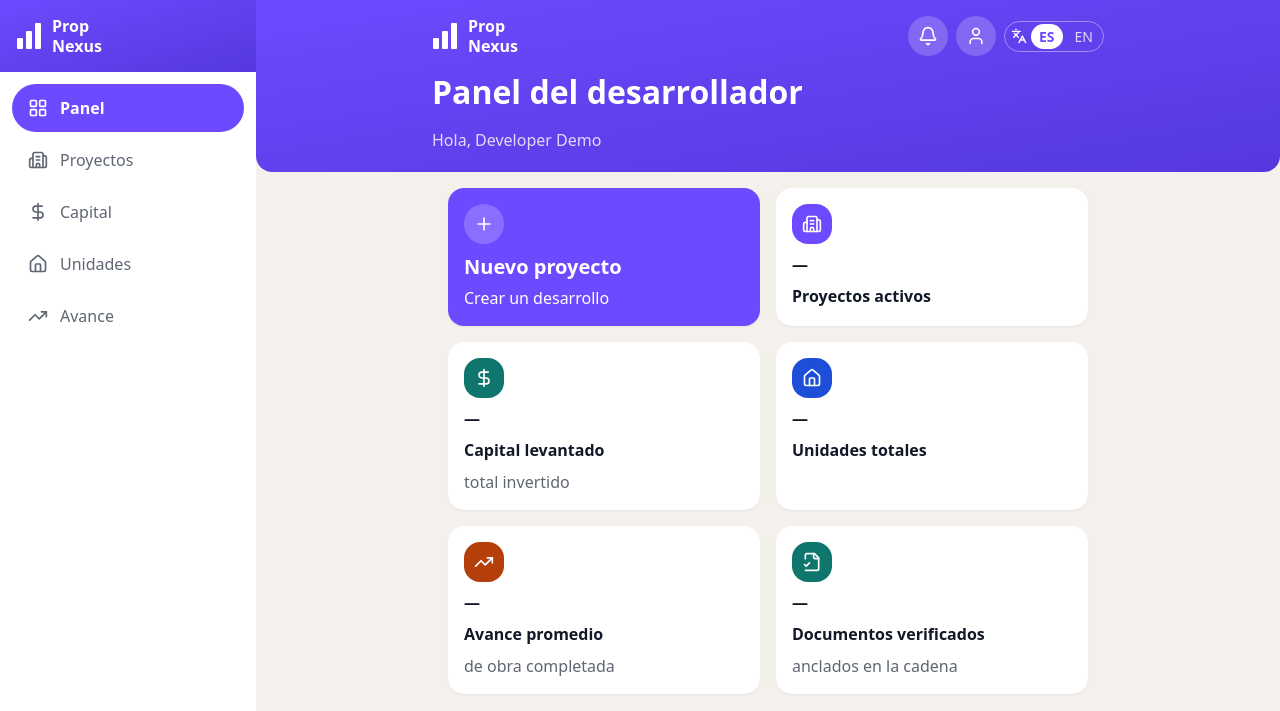
Test: /developer (panel) › el acceso "panel.developer.newProject" navega a /developer/project/new
Click the button "Nuevo proyecto Crear un desarrollo" at (604, 257), box [448, 188, 760, 326]
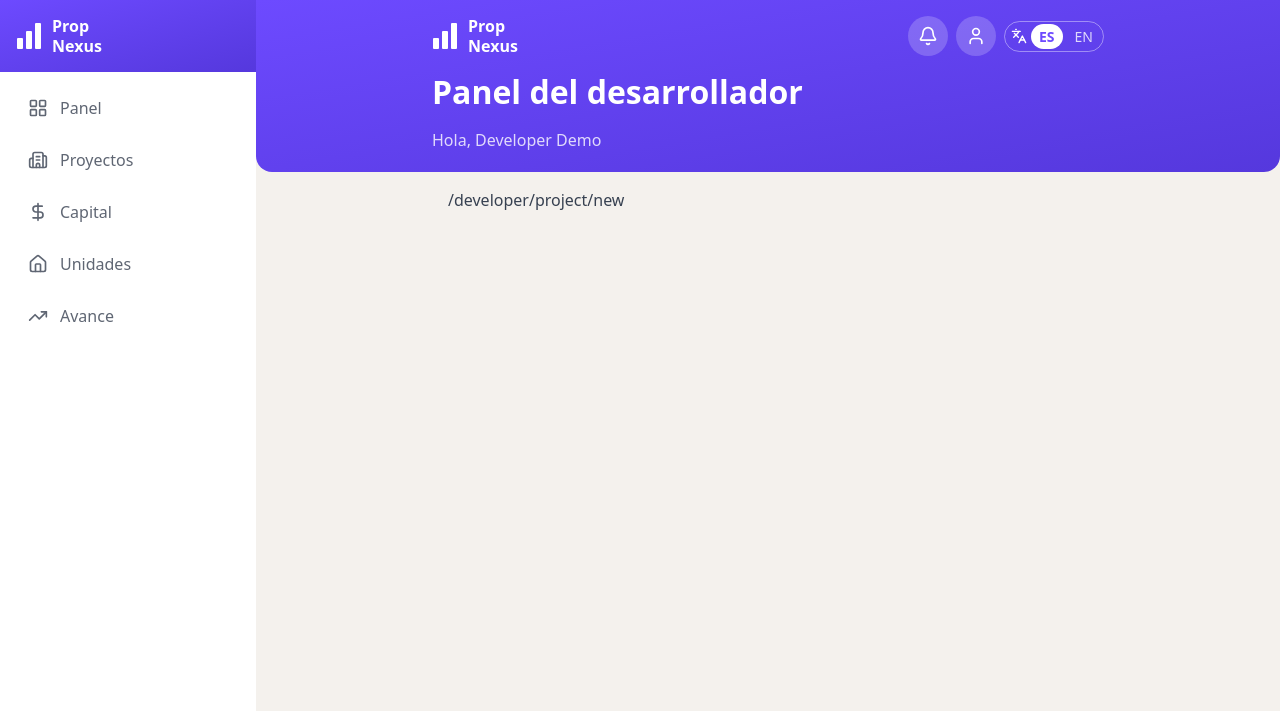
Check: the text "/developer/project/new" is shown, box [448, 189, 624, 211]
